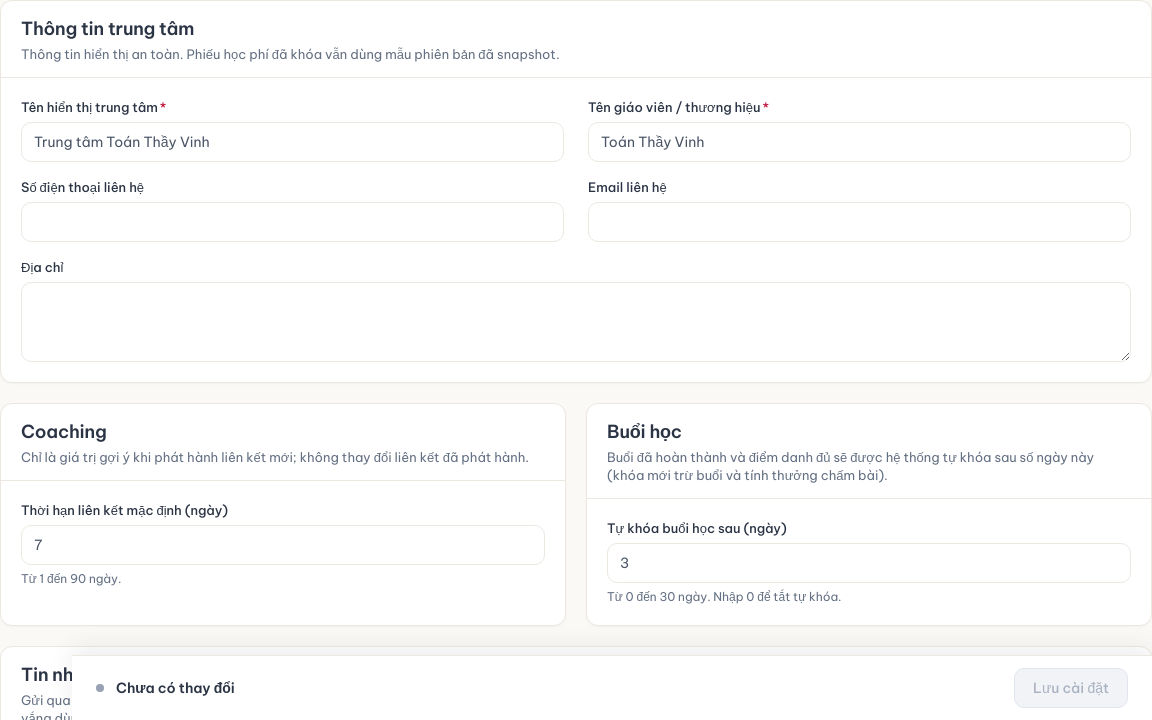
Test: SystemSettingsForm save bar › asks before a reload or close while the save is in flight
Replace the text in the field labelled "Tên hiển thị trung tâm" with "Cơ sở Quận 3": (292,142) [21,122,564,162]
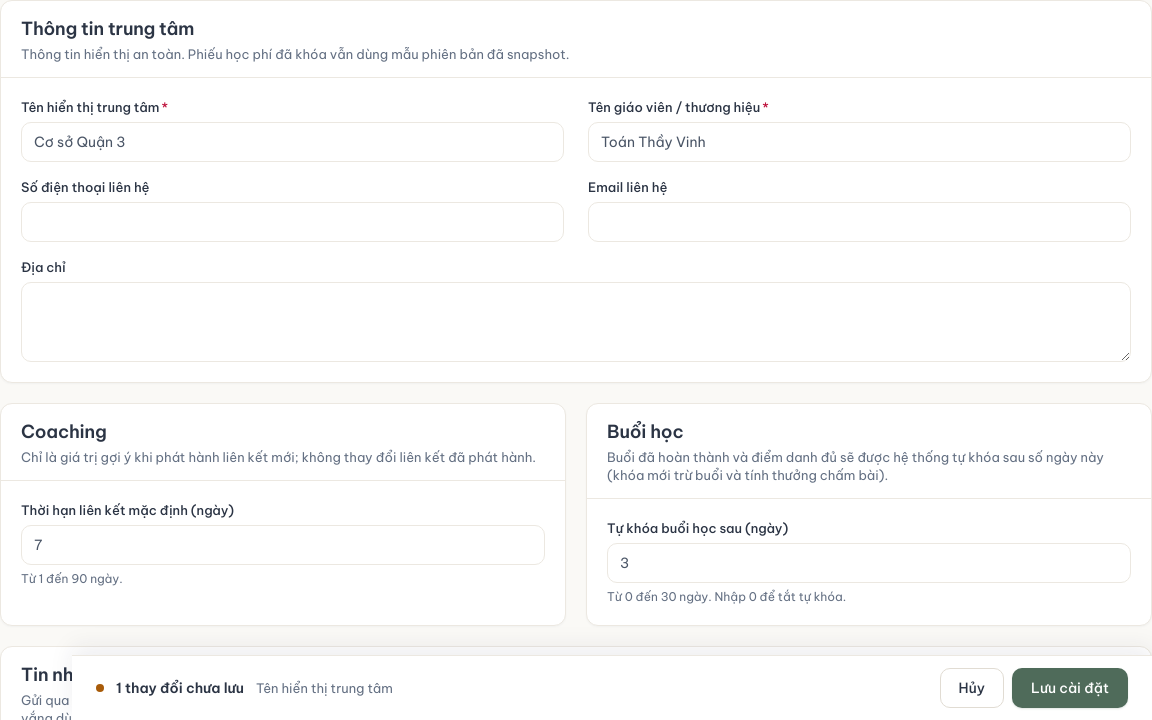
Expected: the element named "Thanh lưu thay đổi" shows "1 thay đổi chưa lưu", [116,679,244,697]
Click the button "Lưu cài đặt": (1070,688) [1012,668,1128,708]
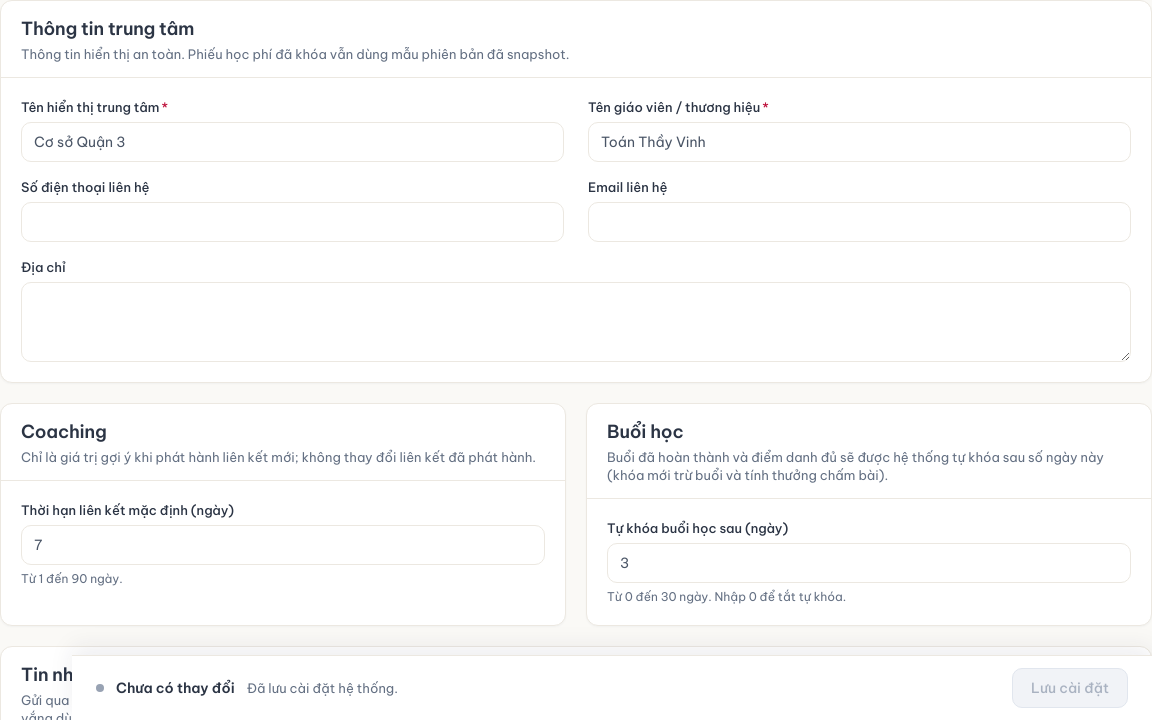
Expected: the element named "Thanh lưu thay đổi" shows "Chưa có thay đổi", [116,679,235,697]
